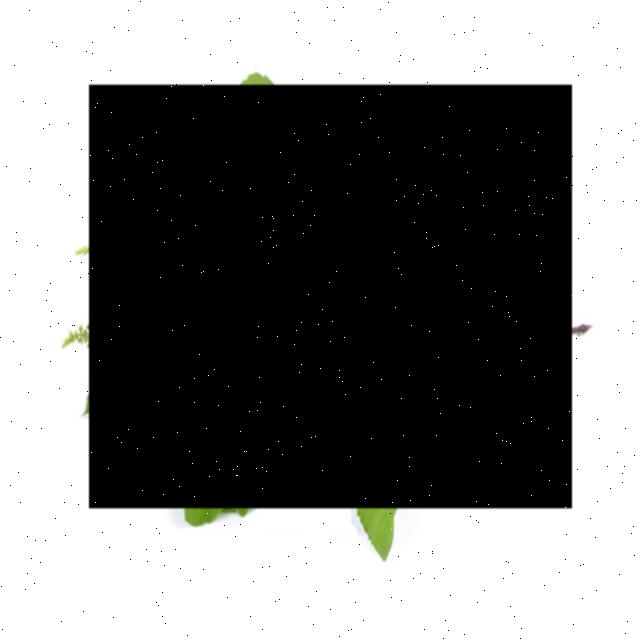Bethu_ko_Saag: (90, 86, 572, 509)
